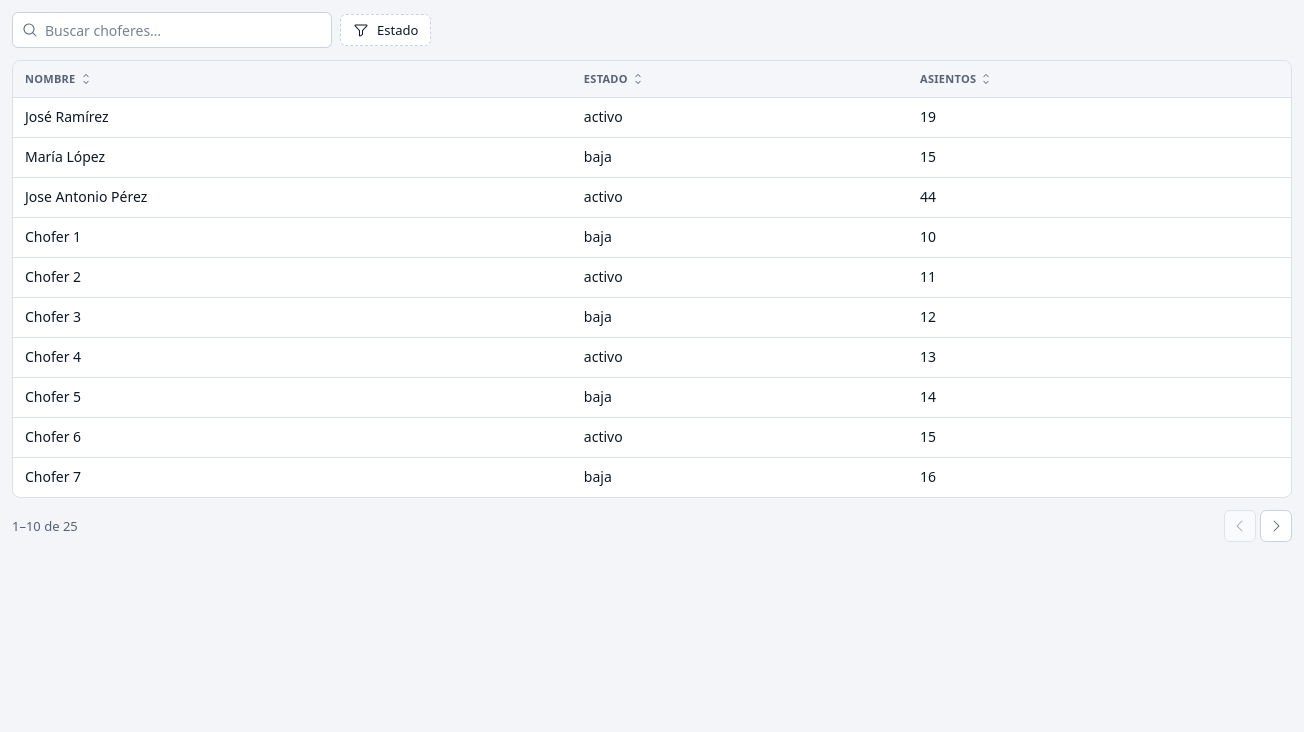
tabla con filtros › pagina y dice cuántos hay
Expected: the text "1–10 de 25" is shown, [12,517,78,535]
Click the button named "Página siguiente" at [1276, 526], box [1260,510,1292,542]
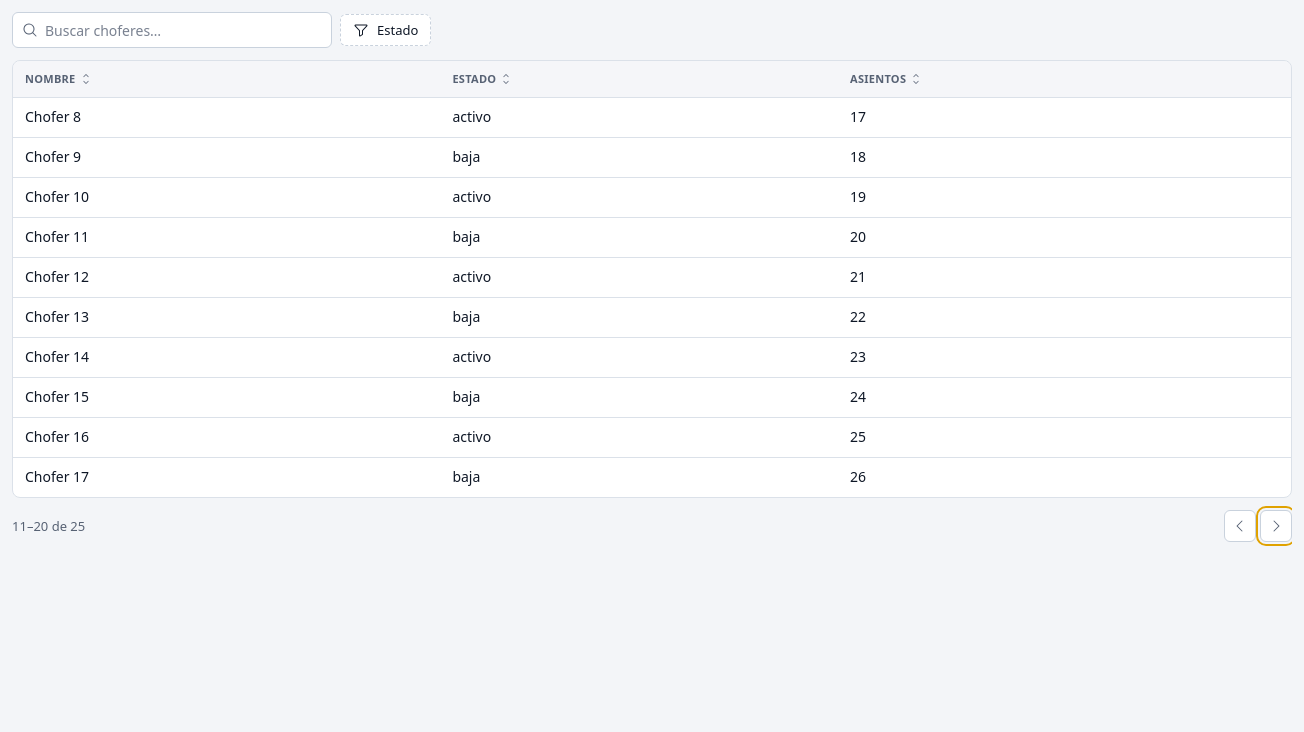
Expected: the text "11–20 de 25" is shown, [12,517,85,535]
